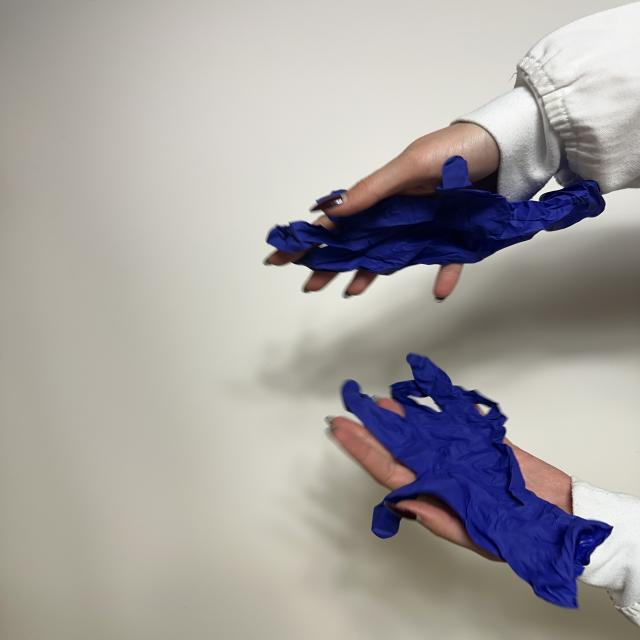glove_not_fitted: (329, 354, 612, 608), (266, 123, 604, 301)
